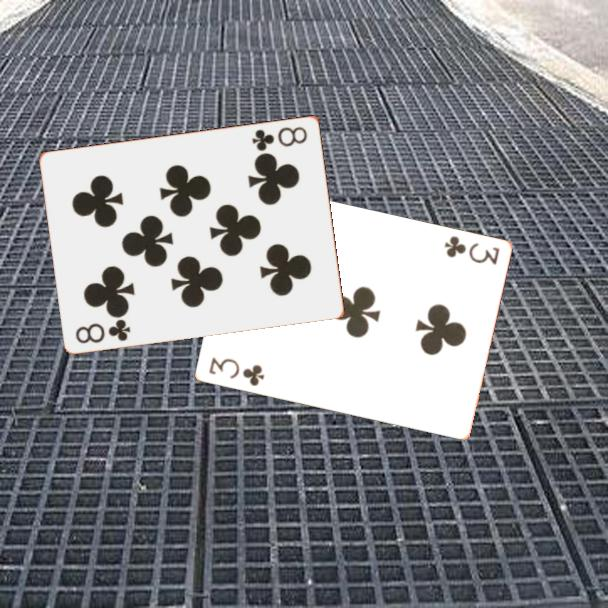c03: (440, 232, 502, 268), (205, 354, 267, 389)
c08: (72, 315, 134, 346), (249, 123, 310, 154)
